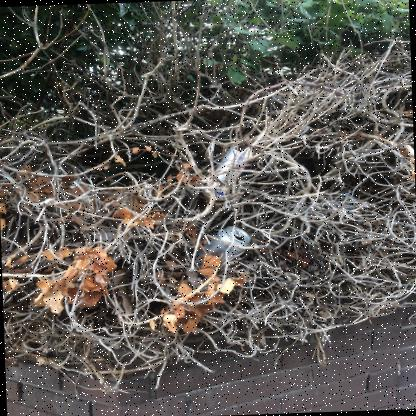Drink can: (205, 145, 257, 199), (194, 226, 250, 266)
Pop tab: (233, 228, 241, 237)
